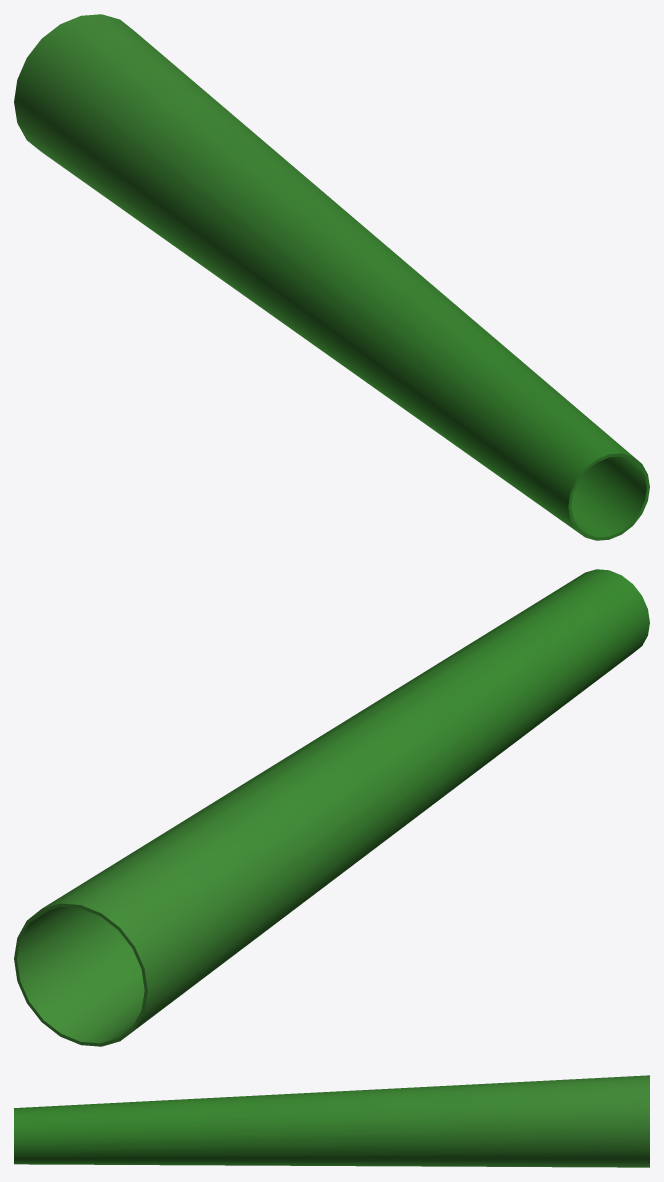
File: chives1_sliced_3.fbx
The picture shows the model from 3 angles, top to bottom: view 1: azimuth 30°, elevation 25°; view 2: azimuth 150°, elevation 25°; view 3: azimuth 270°, elevation 25°; orthographic projection. The views are drawn at different scales.
Visible parts, largest first — view 1: Chives_1_sliced.003; view 2: Chives_1_sliced.003; view 3: Chives_1_sliced.003.
Boxes of the visible parts, left/top/right/bottom form: Chives_1_sliced.003: left=14, top=14, right=649, bottom=540; Chives_1_sliced.003: left=14, top=569, right=649, bottom=1046; Chives_1_sliced.003: left=14, top=1075, right=649, bottom=1167.
Size of the model in its own units: 43.21 by 43.21 by 295.
